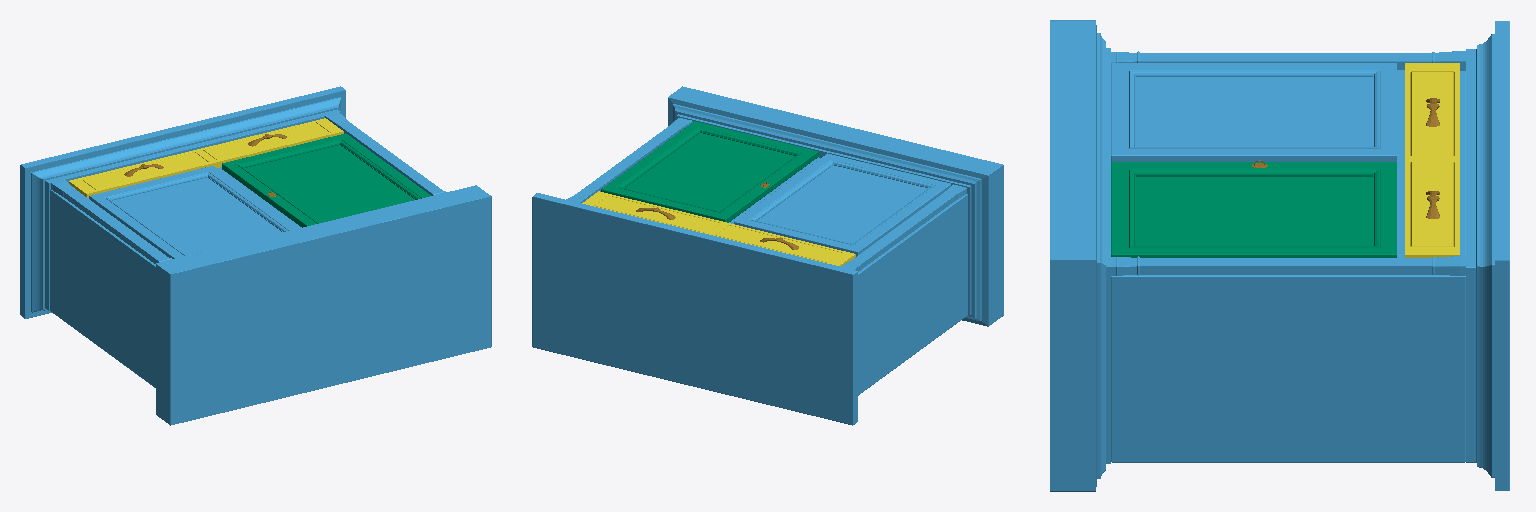
robot.urdf — 509:
<robot name="509">


	<link name="0:virtual">
		<visual>
			<origin xyz="0.0 0.0 0.0" rpy="0 0 0"/>
			<geometry>
				<cylinder length="0" radius="0"/>
			</geometry>
		</visual>
	</link>


	<link name="1:static">
		<visual>
			<origin xyz="-0.0 -0.0 -0.0" rpy="0 0 0"/>
			<geometry>
				<mesh filename="../raw_data/509/part_meshes/1.dae" />
			</geometry>
		</visual>
	</link>


	<link name="2:cabinet door 1">
		<visual>
			<origin xyz="-0.4446810030937196 -0.3995710015296936 -0.19999299943447113" rpy="0 0 0"/>
			<geometry>
				<mesh filename="../raw_data/509/part_meshes/2.dae" />
			</geometry>
		</visual>
	</link>


	<link name="3:drawer 1">
		<visual>
			<origin xyz="-0.0 -0.7484025061130524 0.001162998378276825" rpy="0 0 0"/>
			<geometry>
				<mesh filename="../raw_data/509/part_meshes/3.dae" />
			</geometry>
		</visual>
	</link>


	<joint name="0:virtual::1:static" type="fixed">
		<parent link="0:virtual"/>
		<child link="1:static"/>
		<origin xyz="0.0 0.0 0.0" rpy="0 0 0"/>
	</joint>


	<joint name="0:virtual::2:cabinet door 1_rotation" type="revolute">
		<parent link="0:virtual"/>
		<child link="2:cabinet door 1"/>
		<origin xyz="0.4446810030937196 0.3995710015296936 0.19999299943447113" rpy="0 0 0"/>
		<limit lower="0.0" upper="2.0263272615654166" effort="10" velocity="3"/>
		<axis xyz="0.0 1.0 0.0"/>
	</joint>


	<joint name="0:virtual::3:drawer 1_translation" type="prismatic">
		<parent link="0:virtual"/>
		<child link="3:drawer 1"/>
		<origin xyz="0.0 0.7484025061130524 -0.001162998378276825" rpy="0 0 0"/>
		<limit lower="-0.0096640012860298" upper="0.36333599871397" effort="10" velocity="3"/>
		<axis xyz="0.0 0.0 1.0"/>
	</joint>


</robot>

--- Render facts (derived) ---
3 views of the same robot in one strip: view 1: azimuth 30°, elevation 25°; view 2: azimuth 150°, elevation 25°; view 3: azimuth 270°, elevation 25° (orthographic).
Model 509 with 4 links and 3 joints (1 revolute, 1 prismatic, 1 fixed), rooted at 0:virtual, posed all joints at 0.
Visible links, largest first — view 1: 1:static, 2:cabinet door 1, 3:drawer 1; view 2: 1:static, 2:cabinet door 1, 3:drawer 1; view 3: 1:static, 2:cabinet door 1, 3:drawer 1.
Link boxes in pixels (x1,y1,x2,y2): 1:static: (20, 86, 491, 425); 2:cabinet door 1: (222, 133, 430, 227); 3:drawer 1: (69, 118, 343, 198); 1:static: (532, 86, 1003, 425); 2:cabinet door 1: (601, 121, 818, 222); 3:drawer 1: (582, 191, 855, 266); 1:static: (1050, 20, 1509, 491); 2:cabinet door 1: (1111, 162, 1396, 257); 3:drawer 1: (1405, 63, 1459, 257).
Bounding box of the posed robot: 1.11 × 0.9 × 0.5 m (x, y, z).
3 mesh visuals loaded from 3 distinct referenced files (3 Collada DAE).